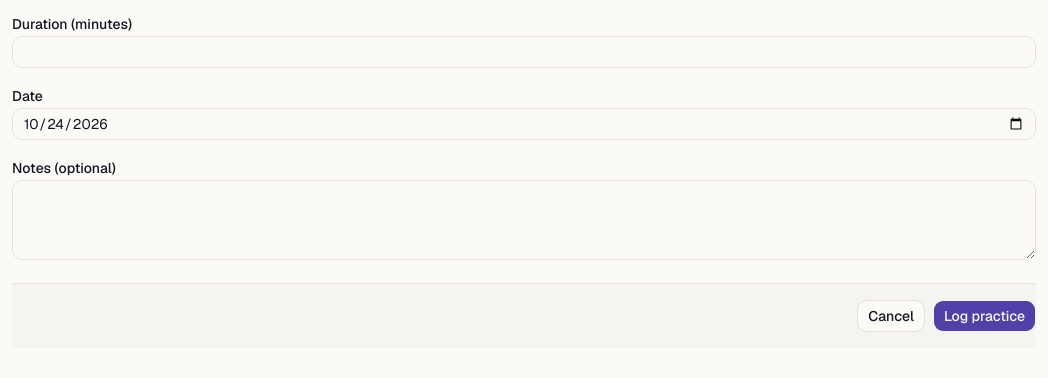
Test: SessionForm › rejects a future date
This screenshot has width=1048, height=378.
In the number field labelled "Duration (minutes)": (524, 52) x1=12 y1=36 x2=1036 y2=68, type "30"
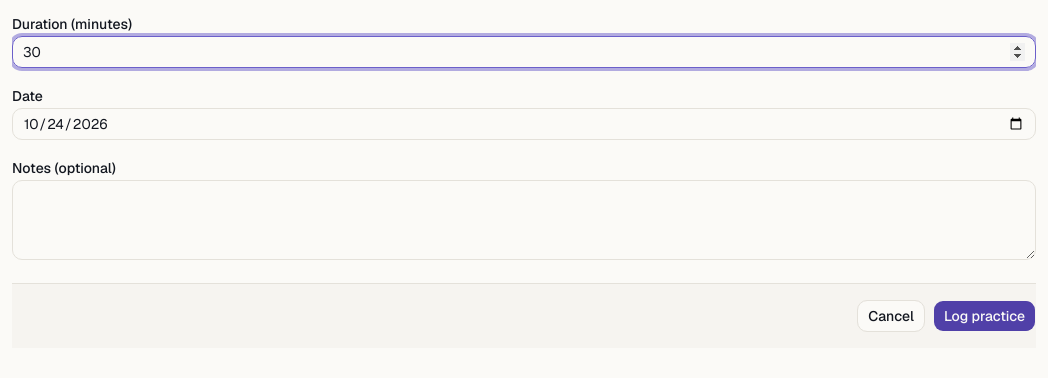
// fireEvent: user-event cannot reliably type into a date input in jsdom.
In the date field labelled "Date": (524, 124) x1=12 y1=108 x2=1036 y2=140, type "2026-10-25"
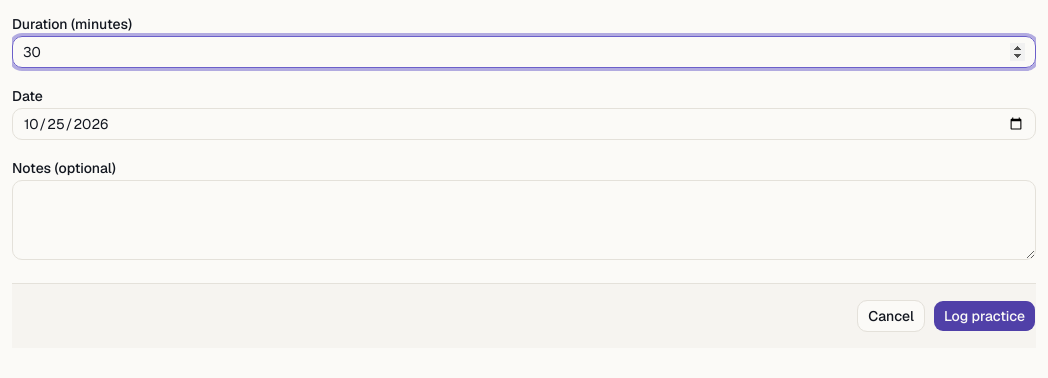
Click the button "Log practice": (984, 316) x1=933 y1=300 x2=1036 y2=332
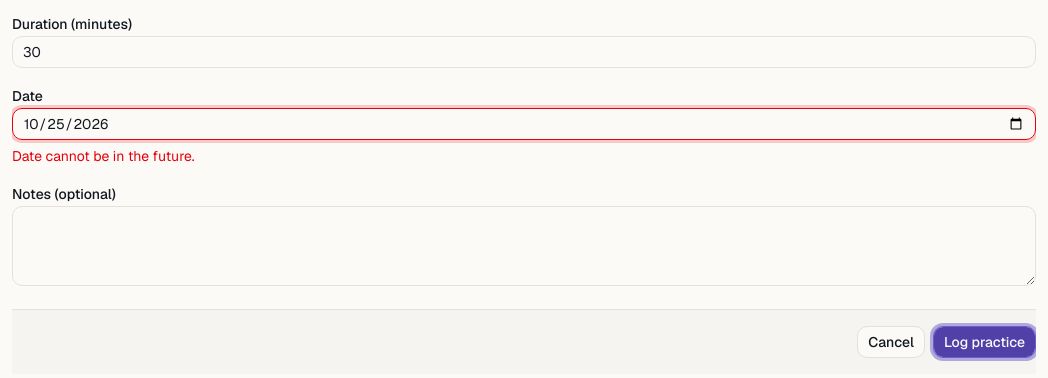
Check: the text "Date cannot be in the future." is shown, box x1=12 y1=147 x2=195 y2=165
